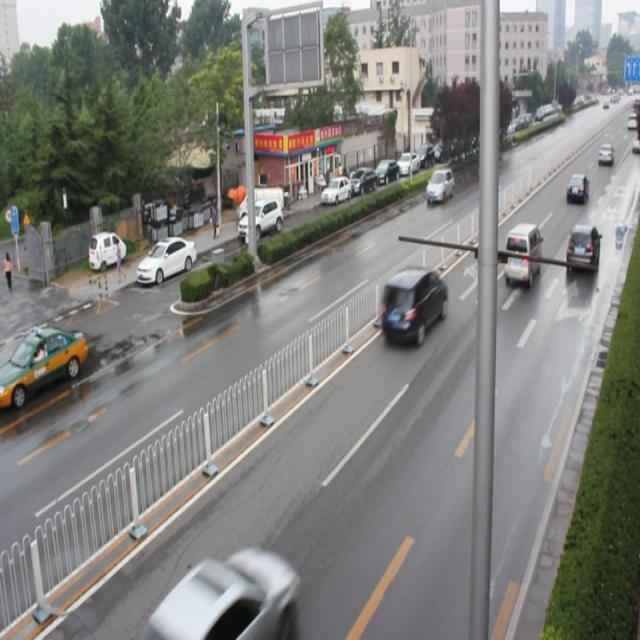car: (148, 539, 300, 640), (565, 223, 598, 274), (424, 167, 453, 200), (565, 170, 585, 202)
truck: (381, 263, 447, 346), (504, 222, 540, 286)
